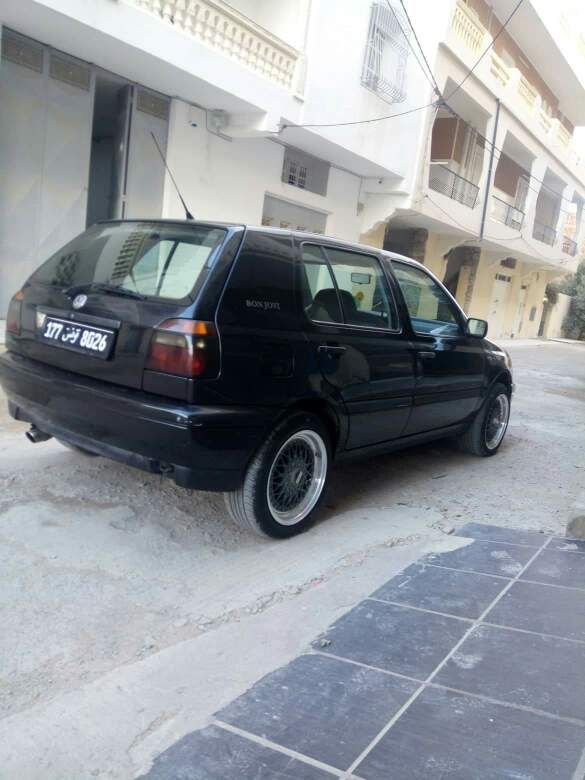LP: (41, 315, 117, 357)
